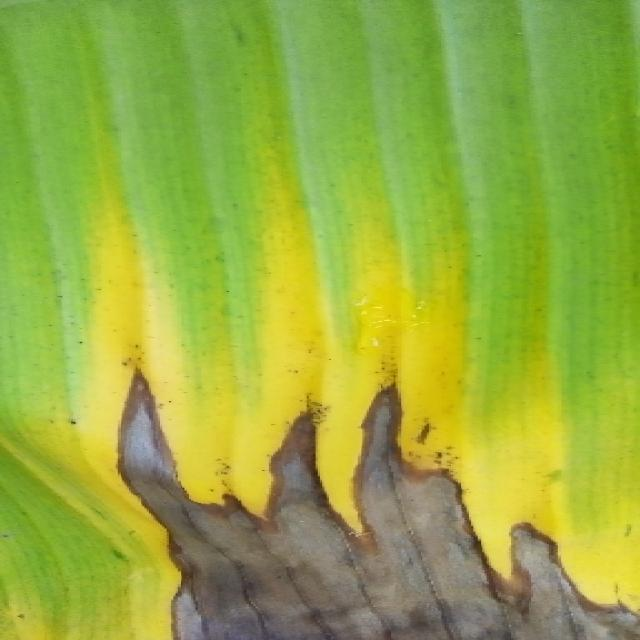Cordana: (0, 102, 640, 640)
